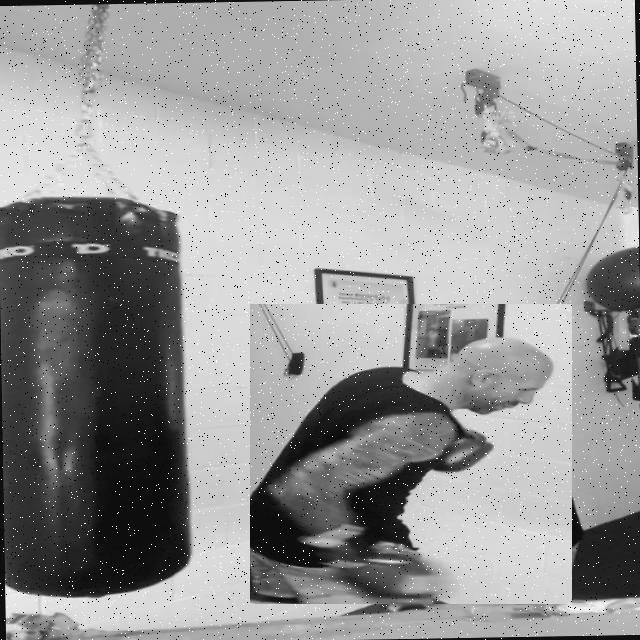punch: (250, 304, 572, 604)
